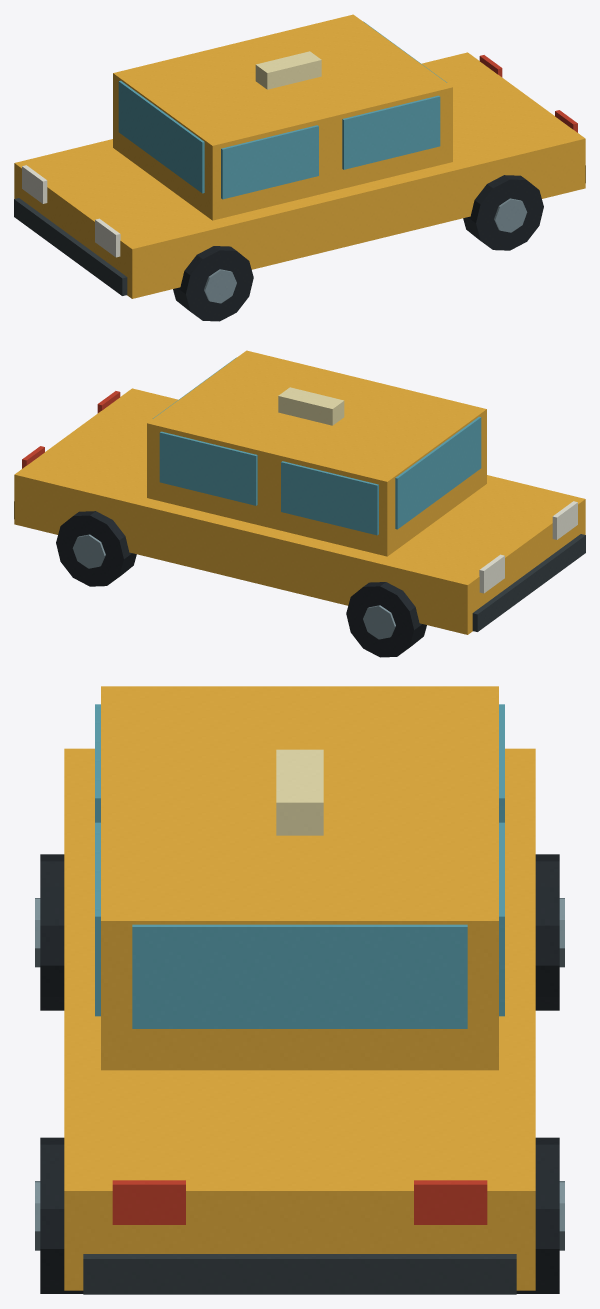
Rendered from taxi.glb.
The picture shows the model from 3 angles, top to bottom: view 1: azimuth 30°, elevation 25°; view 2: azimuth 150°, elevation 25°; view 3: azimuth 270°, elevation 25°; orthographic projection. The views are drawn at different scales.
Visible parts, largest first — view 1: Vehicle lower body 009, Passenger cabin 010, Passenger side glazing 012, Passenger side glazing 011, End cabin glazing 015, Polygon tyre 005, Polygon tyre 001, Bumper 022, Unlettered taxi roof sign 017, Wheel hub 006, Wheel hub 002, Front headlight 018 (+1 smaller); view 2: Vehicle lower body 009, Passenger cabin 010, Passenger side glazing 014, Passenger side glazing 013, End cabin glazing 015, Polygon tyre 007, Polygon tyre 003, Bumper 022, Unlettered taxi roof sign 017, Wheel hub 008, Wheel hub 004, Front headlight 020 (+1 smaller); view 3: Passenger cabin 010, Vehicle lower body 009, End cabin glazing 016, Bumper 023, Unlettered taxi roof sign 017, Polygon tyre 005, Polygon tyre 007, Polygon tyre 001, Polygon tyre 003, Rear lamp 019, Rear lamp 021, Passenger side glazing 012 (+1 smaller).
Boxes of the visible parts, x1,y1,x2,y2 form: Vehicle lower body 009: (14,52,585,298); Passenger cabin 010: (113,14,452,220); Passenger side glazing 012: (342,95,440,169); Passenger side glazing 011: (221,125,318,199); End cabin glazing 015: (118,80,204,193); Polygon tyre 005: (463,175,543,250); Polygon tyre 001: (173,246,253,321); Bumper 022: (14,198,127,295); Unlettered taxi roof sign 017: (255,51,321,89); Wheel hub 006: (494,198,527,232); Wheel hub 002: (204,269,236,303); Front headlight 018: (95,218,120,257); Vehicle lower body 009: (14,388,585,634); Passenger cabin 010: (147,350,486,556); Passenger side glazing 014: (159,431,257,505); Passenger side glazing 013: (281,461,378,535); End cabin glazing 015: (395,416,481,529); Polygon tyre 007: (56,511,136,586); Polygon tyre 003: (346,582,426,657); Bumper 022: (472,534,585,631); Unlettered taxi roof sign 017: (278,387,344,425); Wheel hub 008: (72,534,105,568); Wheel hub 004: (363,605,395,639); Front headlight 020: (479,554,504,593); Passenger cabin 010: (101,686,498,1070); Vehicle lower body 009: (64,748,535,1290); End cabin glazing 016: (132,924,467,1028); Bumper 023: (83,1254,516,1294); Unlettered taxi roof sign 017: (276,749,323,835); Polygon tyre 005: (40,1137,83,1293); Polygon tyre 007: (516,1137,559,1293); Polygon tyre 001: (40,854,64,1010); Polygon tyre 003: (535,854,559,1010); Rear lamp 019: (112,1180,185,1224); Rear lamp 021: (414,1180,487,1224); Passenger side glazing 012: (95,822,100,1016).
Bounding box in the file's own units: 4.09 × 1.51 × 2.02.
8 materials, 8 textured.
